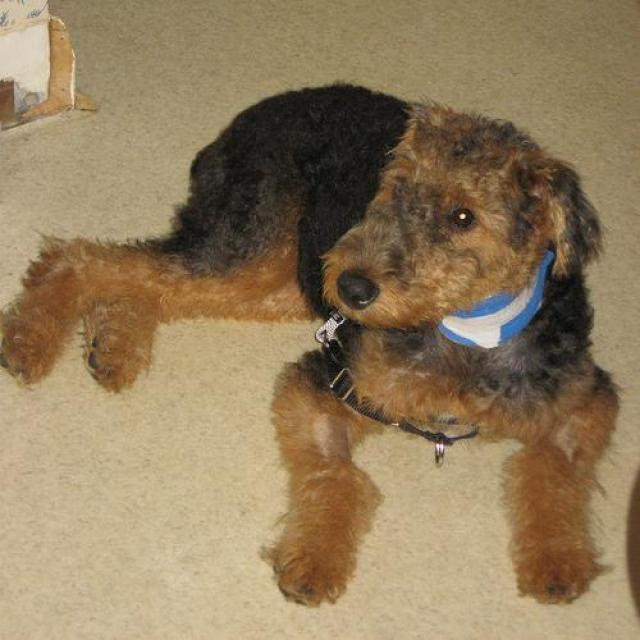airedale: (1, 84, 621, 606)
